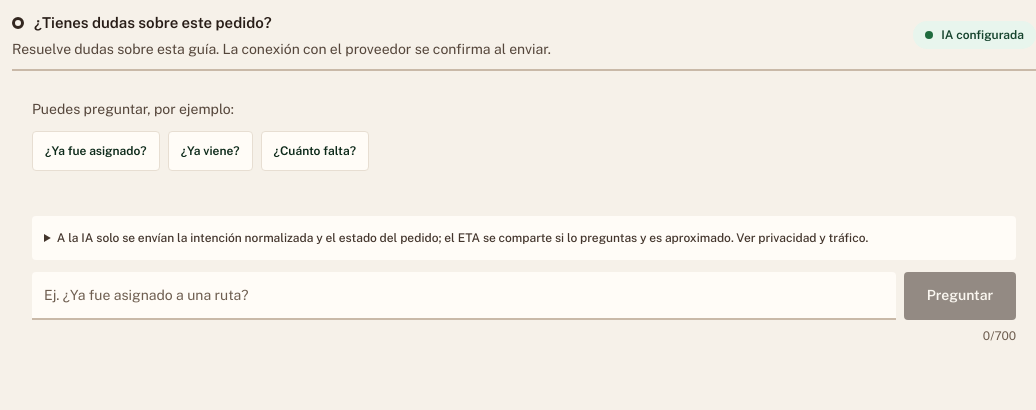
Scenario: CustomerOrderChat › discloses that an ETA is shared only for arrival questions
expect the field named "Escribe tu pregunta sobre el pedido" is shown: met, box x1=32 y1=272 x2=896 y2=320
Click the heading "A la IA solo se envían la intención normalizada y el estado del pedido".
click(462, 238)  # box x1=57 y1=230 x2=868 y2=244
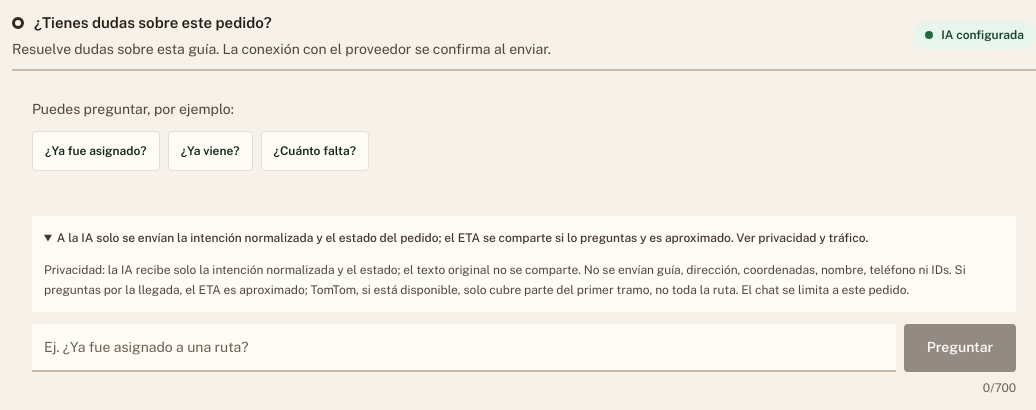
expect the text "no se envían guía, dirección, coordenadas, nombre, teléfono ni IDs" is shown: met, box x1=44 y1=262 x2=966 y2=296
